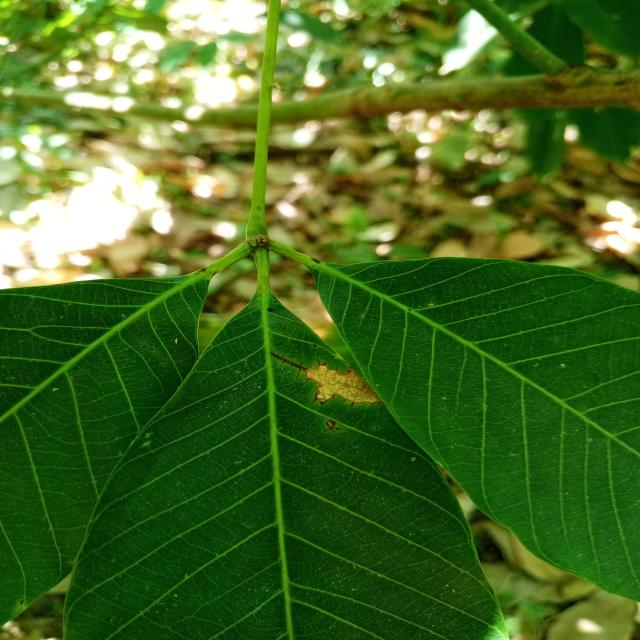Corynespora: (269, 352, 312, 379), (325, 420, 340, 433)
Leaf-Blight: (307, 366, 381, 403)
